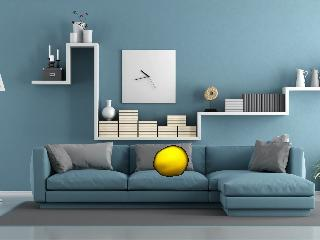lemon: (154, 146, 187, 176)
